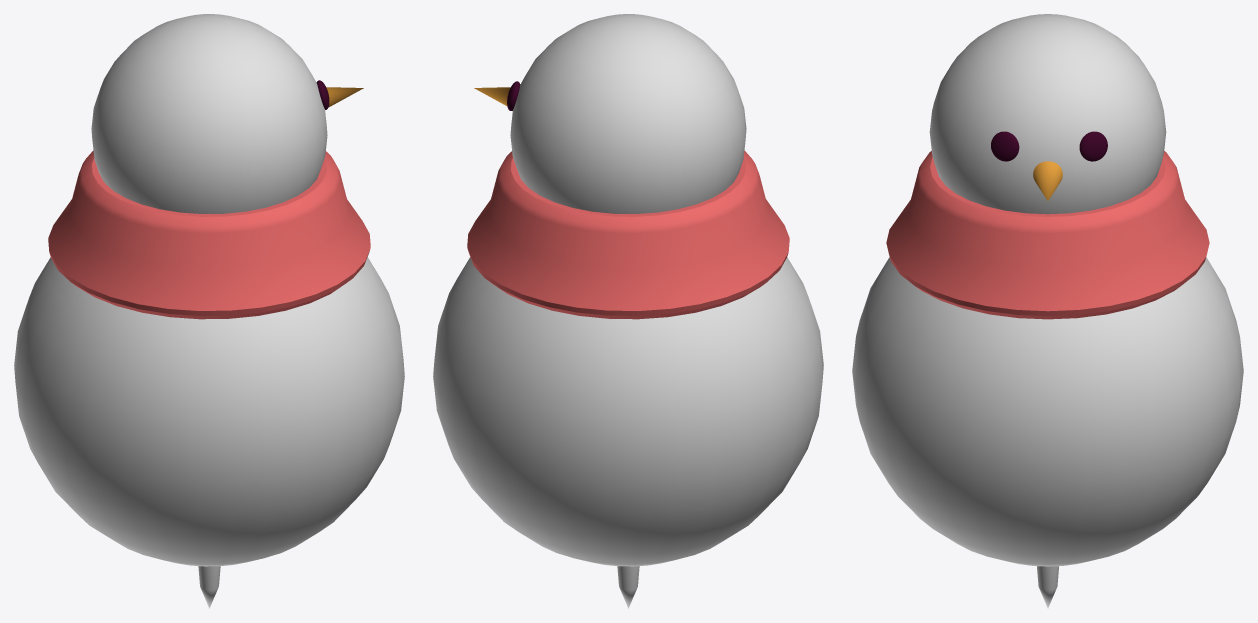
The model's file is DecoBonhomme_VR_Mio 1.fbx.
3 renders of one model, left to right at view 1: azimuth 30°, elevation 25°; view 2: azimuth 150°, elevation 25°; view 3: azimuth 270°, elevation 25°, orthographic.
Visible parts, largest first — view 1: echarpe; view 2: echarpe; view 3: echarpe.
Boxes of the visible parts, x1,y1,x2,y2 form: echarpe: (14,14,404,608); echarpe: (433,14,823,608); echarpe: (852,14,1243,608).
Bounding box in the file's own units: 16.28 × 26.8 × 16.28.
